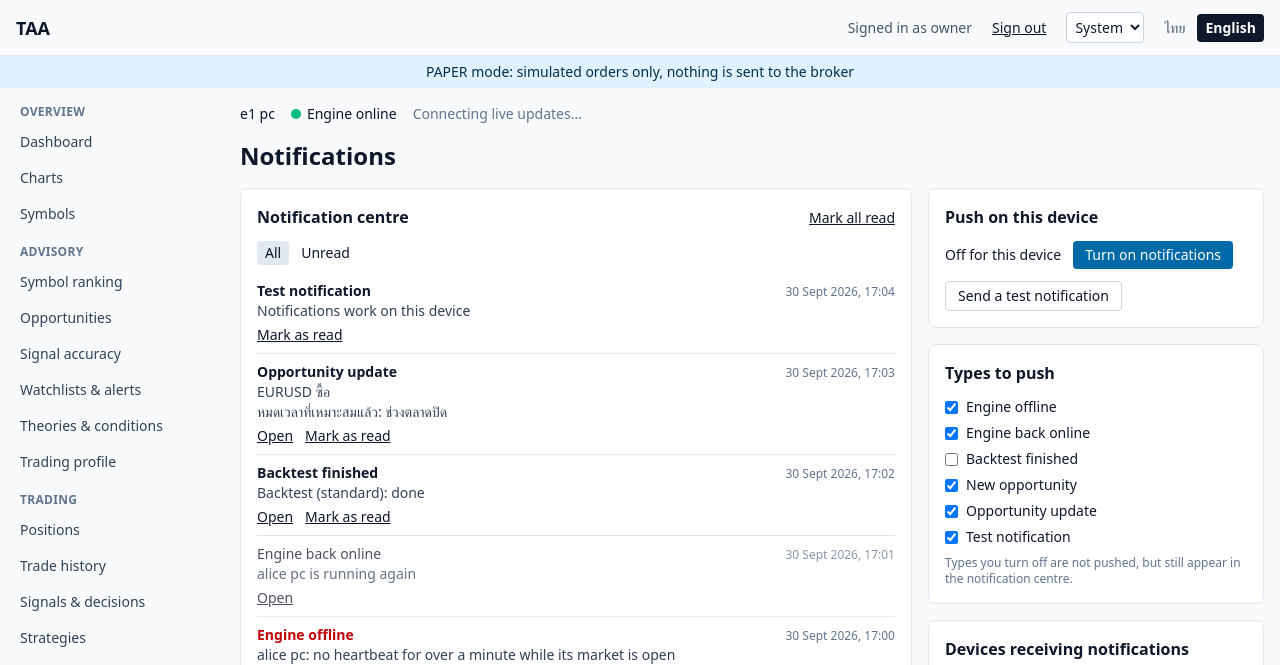
notifications page › turns push on for this device, sends a test and turns it off again
What coordinates should you click on to do the following:
click the button "Turn on notifications"
I would click on:
 (1153, 255)
Its box is [1073,241,1233,269].
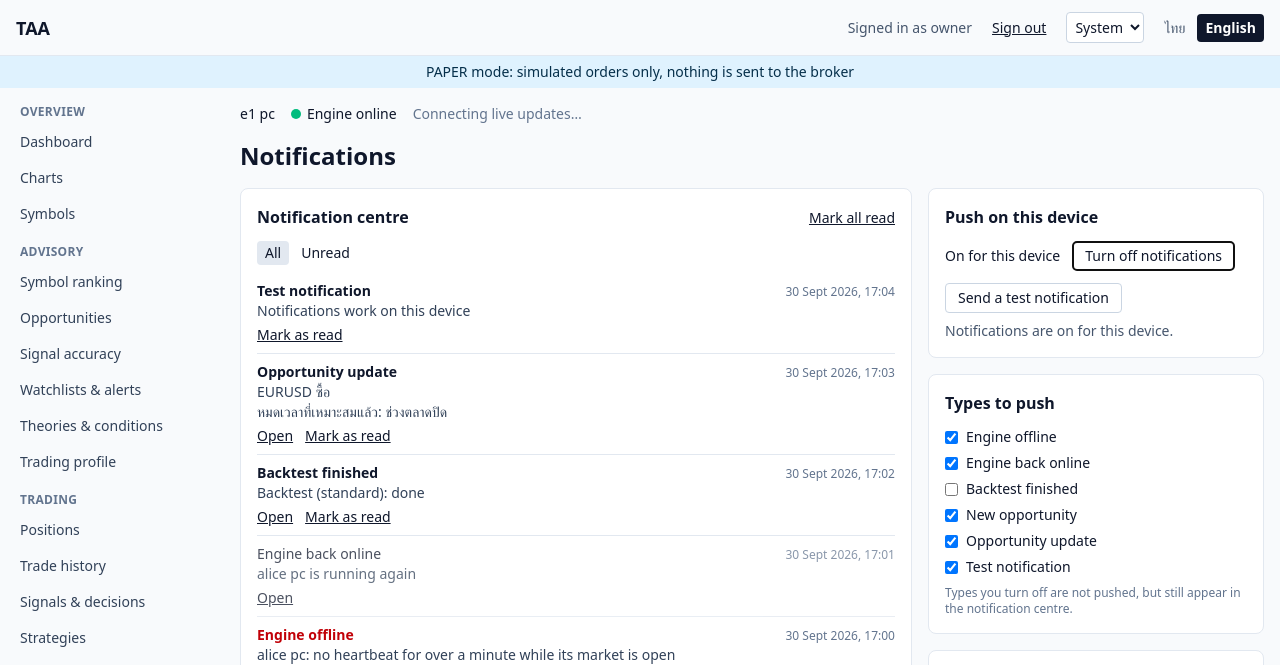
Check: the text "Notifications are on for this device." is shown, box [945,321,1173,340]
Check: the text "On for this device" is shown, box [945,246,1060,266]
What coordinates should you click on to do the following:
click the button "Send a test notification"
I would click on:
 (1033, 298)
Its box is [945,283,1122,313].
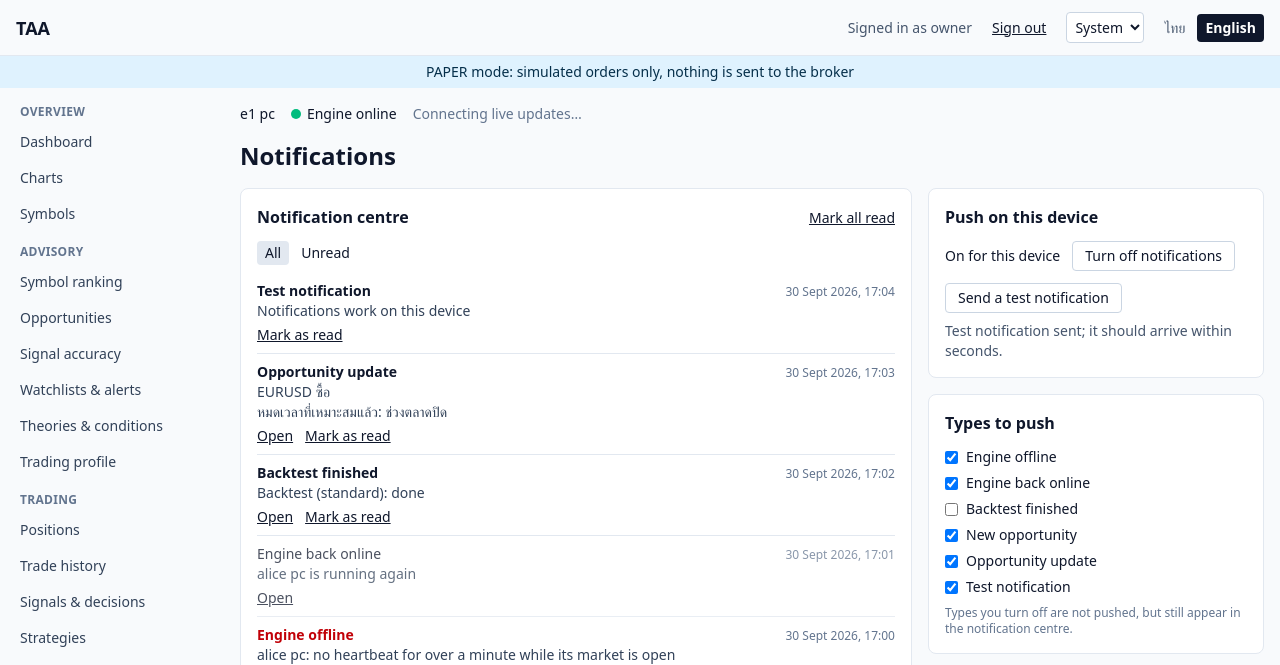
Check: the text "Test notification sent; it should arrive within seconds." is shown, box [945,321,1247,361]
What coordinates should you click on to do the following:
click the button "Turn off notifications"
I would click on:
 (1154, 256)
Its box is [1072,241,1235,271].
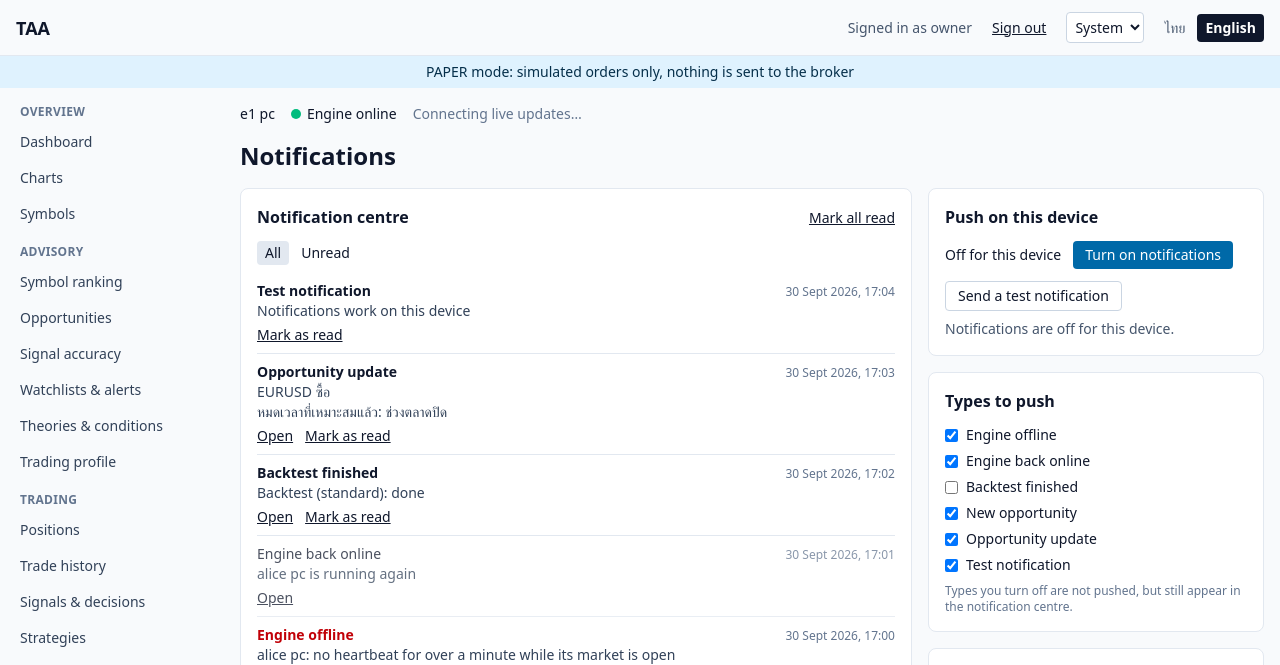
Check: the text "Notifications are off for this device." is shown, box [945,319,1174,338]
